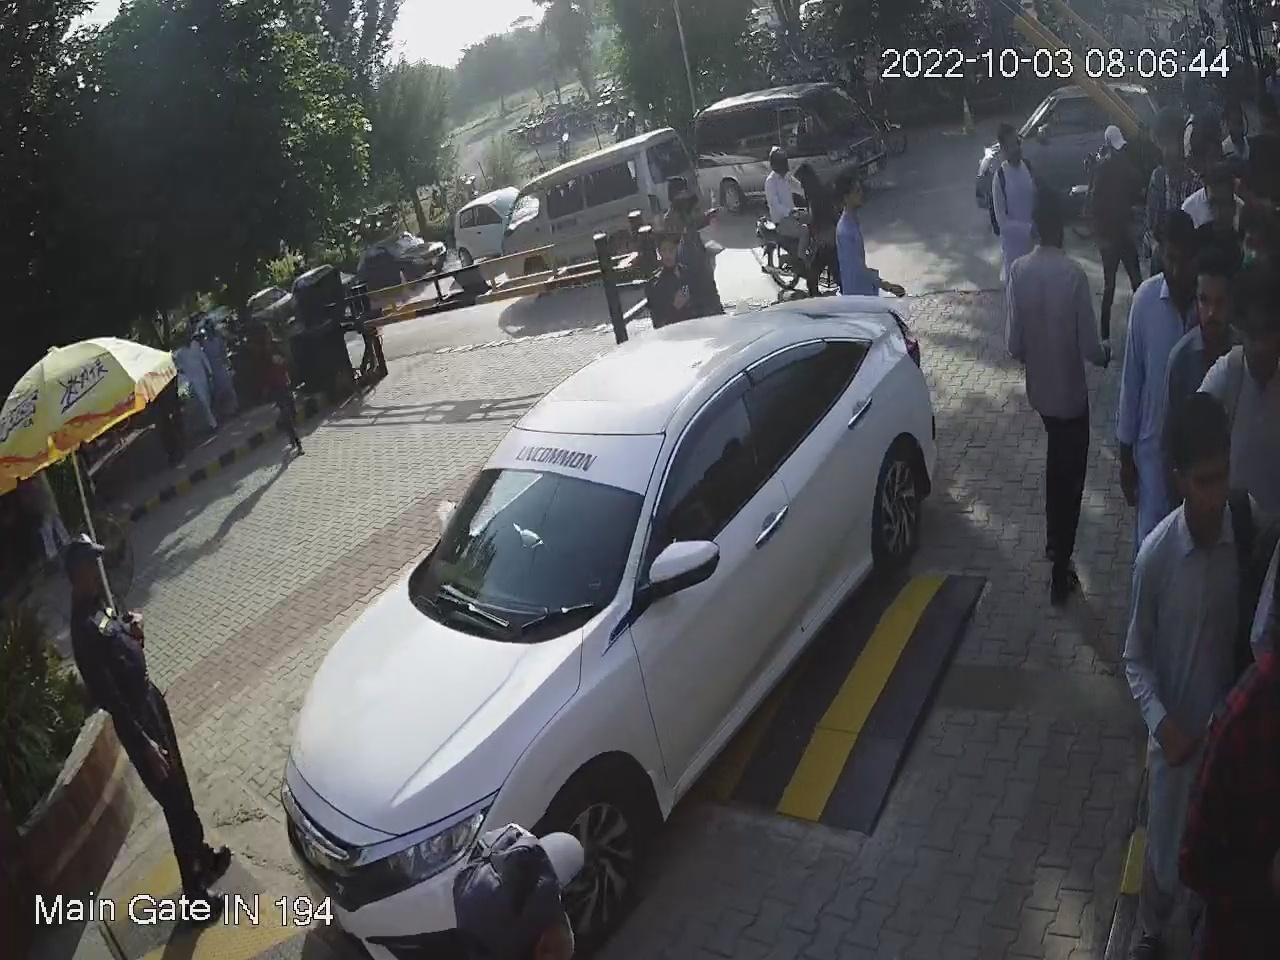windshield: (420, 423, 665, 620)
